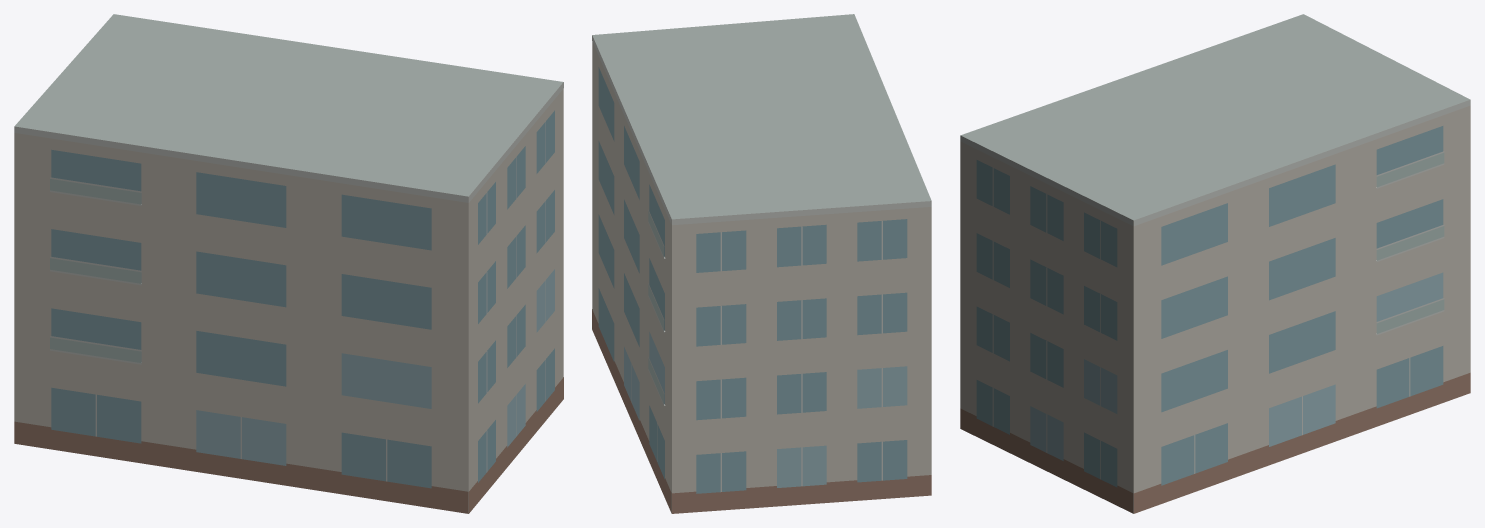
The model's file is survey-upis-33042100.glb.
The picture shows the model from 3 angles, left to right: view 1: azimuth 30°, elevation 25°; view 2: azimuth 150°, elevation 25°; view 3: azimuth 270°, elevation 25°; orthographic projection. The views are drawn at different scales.
Visible parts, largest first — view 1: survey-upis-33042100.tmp; view 2: survey-upis-33042100.tmp; view 3: survey-upis-33042100.tmp.
Part boxes in pixels (bbox=[...]): survey-upis-33042100.tmp: bbox=[14, 14, 563, 513]; survey-upis-33042100.tmp: bbox=[592, 14, 931, 513]; survey-upis-33042100.tmp: bbox=[960, 14, 1470, 513].
Bounding box in the file's own units: 18.42 × 12.2 × 19.24.
